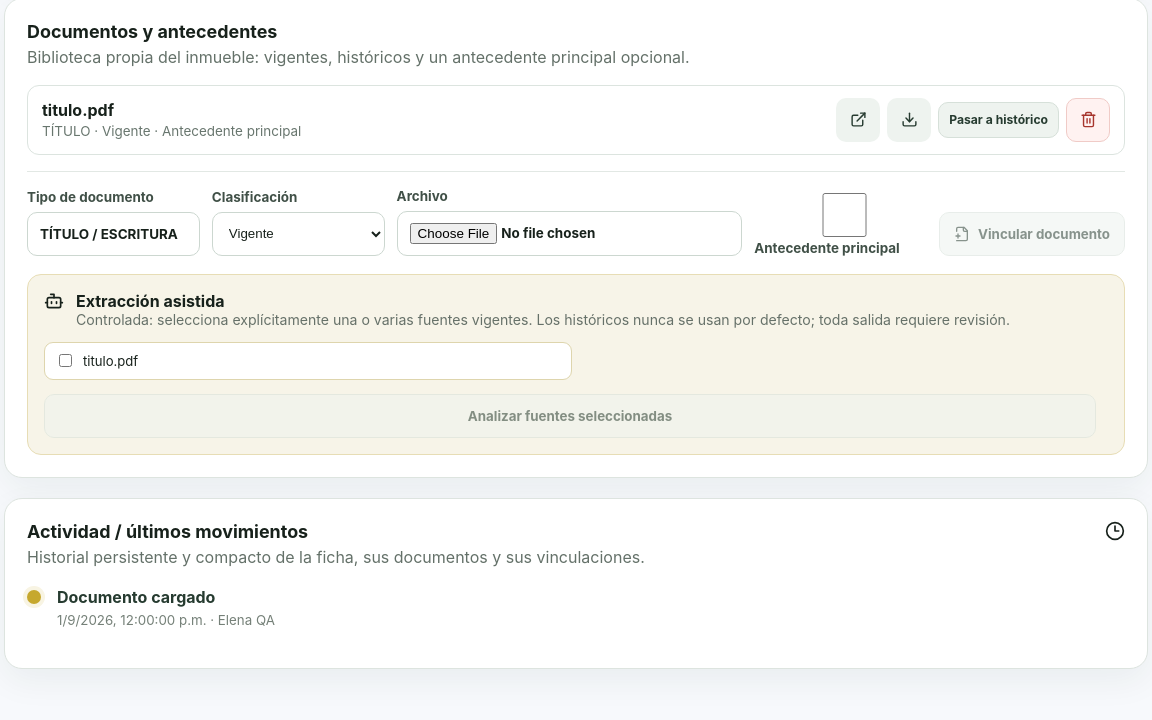
PRD-001 ficha maestra inmobiliaria › muestra conflicto actual contra propuesto y conserva por defecto
(page scrolled)
Expected: the text "Extracción asistida" is shown, 76,291 -> 224,311
Click the checkbox labelled "titulo.pdf" at coordinates (66, 361), box 59,354 -> 72,367
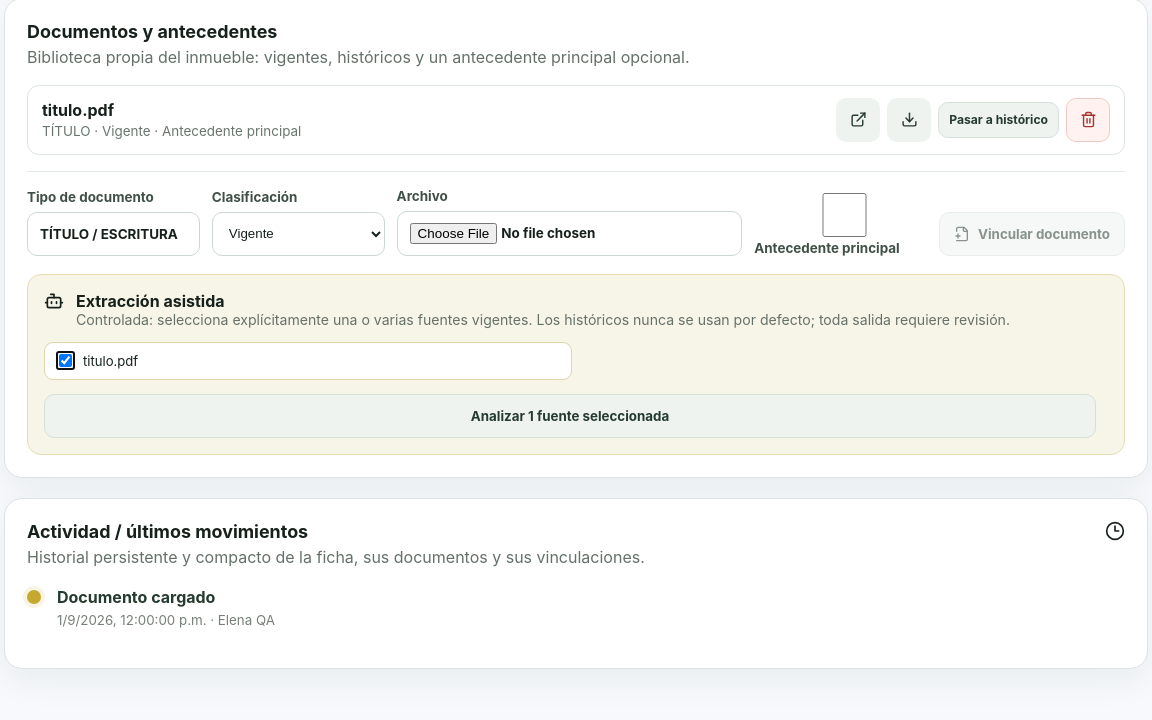
Click the button "Analizar 1 fuente seleccionada" at coordinates (570, 416), box 44,394 -> 1096,438
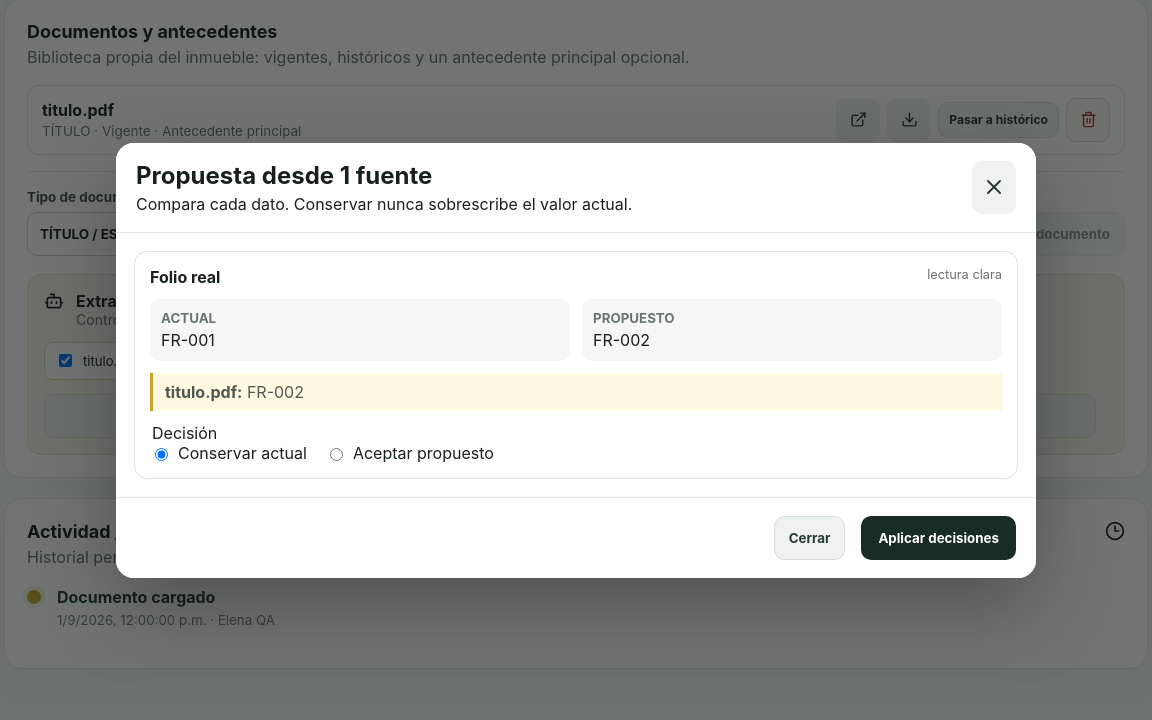
Expected: the text "FR-001" is shown, 161,330 -> 215,350
Expected: the text "FR-002" is shown, 593,330 -> 650,350
Expected: the radio button labelled "Conservar actual" is checked, 155,448 -> 168,460
